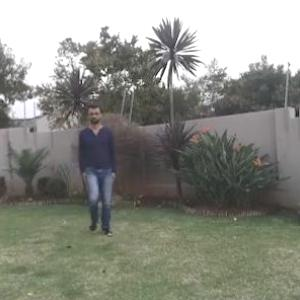follow: (79, 101, 119, 234)
